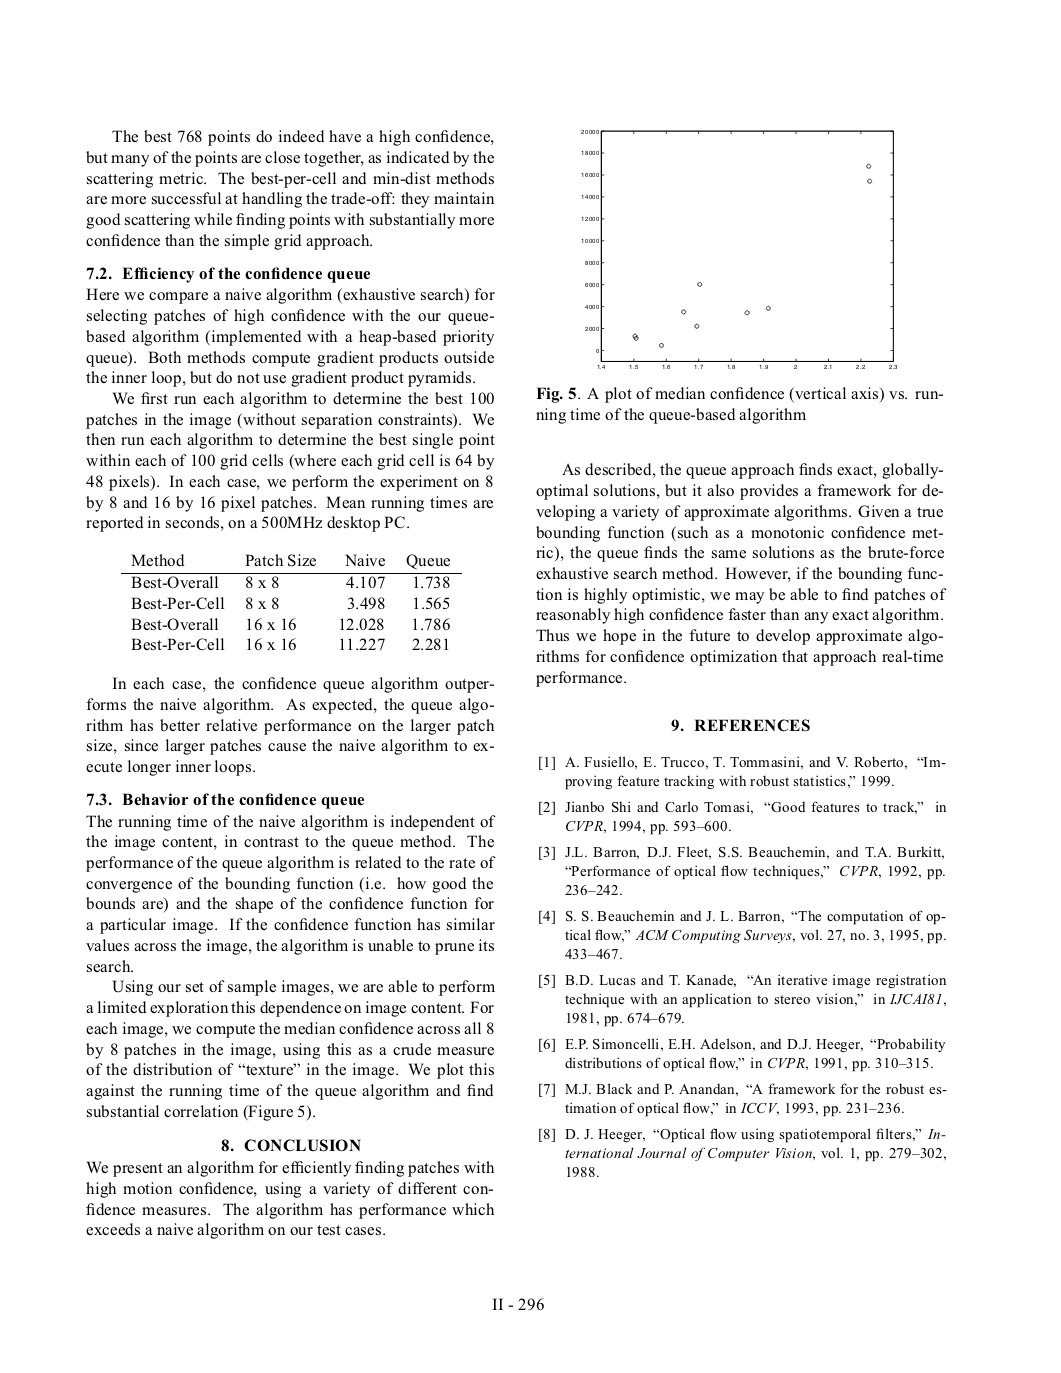Table: (121, 554, 461, 650)
figure: (581, 128, 896, 369)
